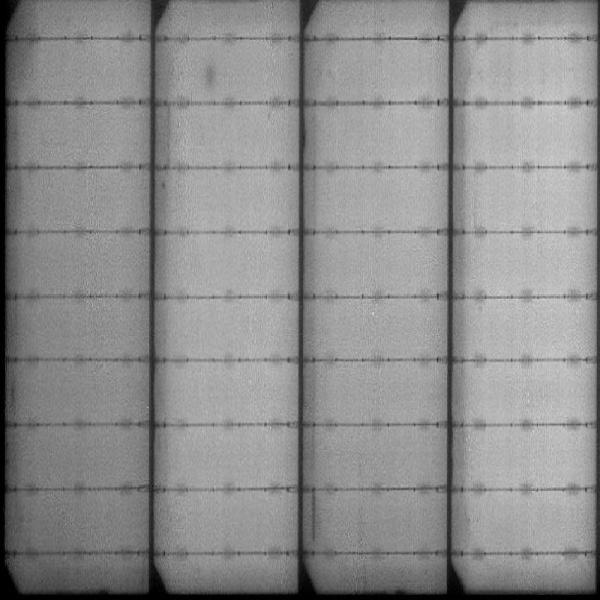scratch: (307, 480, 324, 545)
